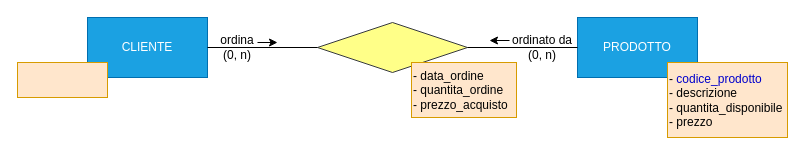
Some shapes in this 805 by 155 pixel diagram are drawn without their labels. Each missing label, with the centre of its shape:
"- codice_fiscale - nominativo" belongs at (x=62, y=80).
"ORDINAZIONE" belongs at (x=392, y=47).
